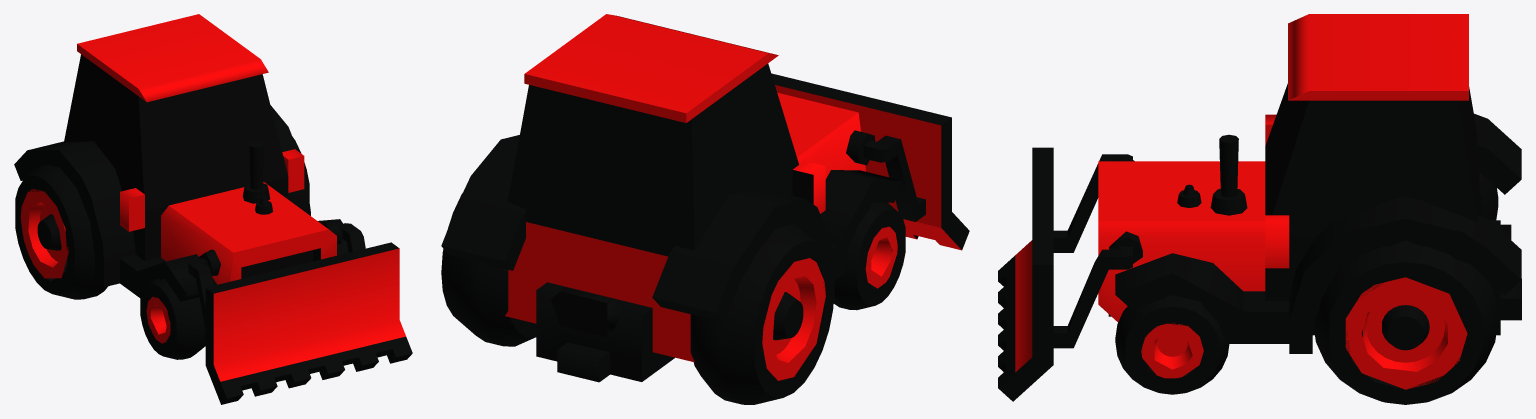
The model's file is tractor-shovel.glb.
The picture shows the model from 3 angles, left to right: view 1: azimuth 30°, elevation 25°; view 2: azimuth 150°, elevation 25°; view 3: azimuth 270°, elevation 25°; orthographic projection. The views are drawn at different scales.
Parts seen in each view (by area): view 1: body, shovel, wheel-back-right, wheel-front-right; view 2: body, wheel-back-right, shovel, wheel-back-left, wheel-front-right; view 3: body, wheel-back-left, shovel, wheel-front-left, wheel-back-right.
Boxes of the visible parts, <box> form: body: <box>14,14,348,301</box>; shovel: <box>188,221,412,404</box>; wheel-back-right: <box>15,165,107,299</box>; wheel-front-right: <box>140,279,205,359</box>; body: <box>441,14,902,382</box>; wheel-back-right: <box>690,224,834,404</box>; shovel: <box>771,73,969,250</box>; wheel-back-left: <box>441,193,536,346</box>; wheel-front-right: <box>833,202,905,310</box>; body: <box>1098,14,1521,353</box>; wheel-back-left: <box>1313,240,1498,404</box>; shovel: <box>998,147,1142,401</box>; wheel-front-left: <box>1115,295,1229,394</box>; wheel-back-right: <box>1479,172,1498,220</box>.
Size of the model in its own units: 1.66 by 1.51 by 2.47.
Materials: 1 (1 with a texture image).
